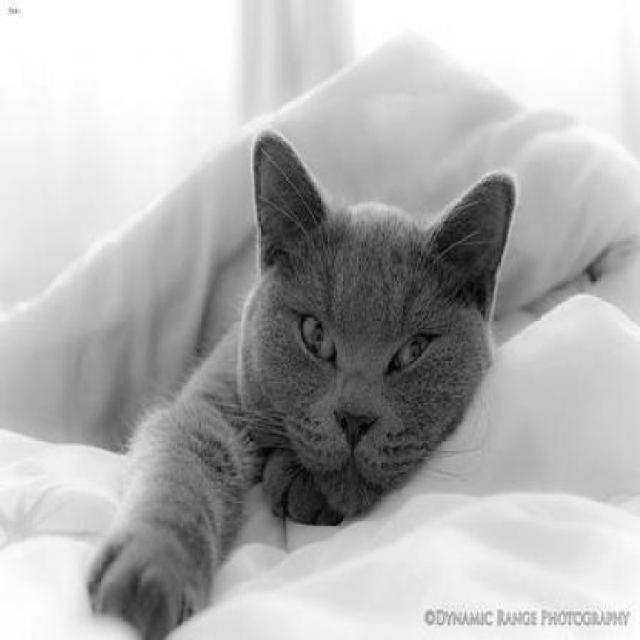Cat: (86, 127, 514, 638)
